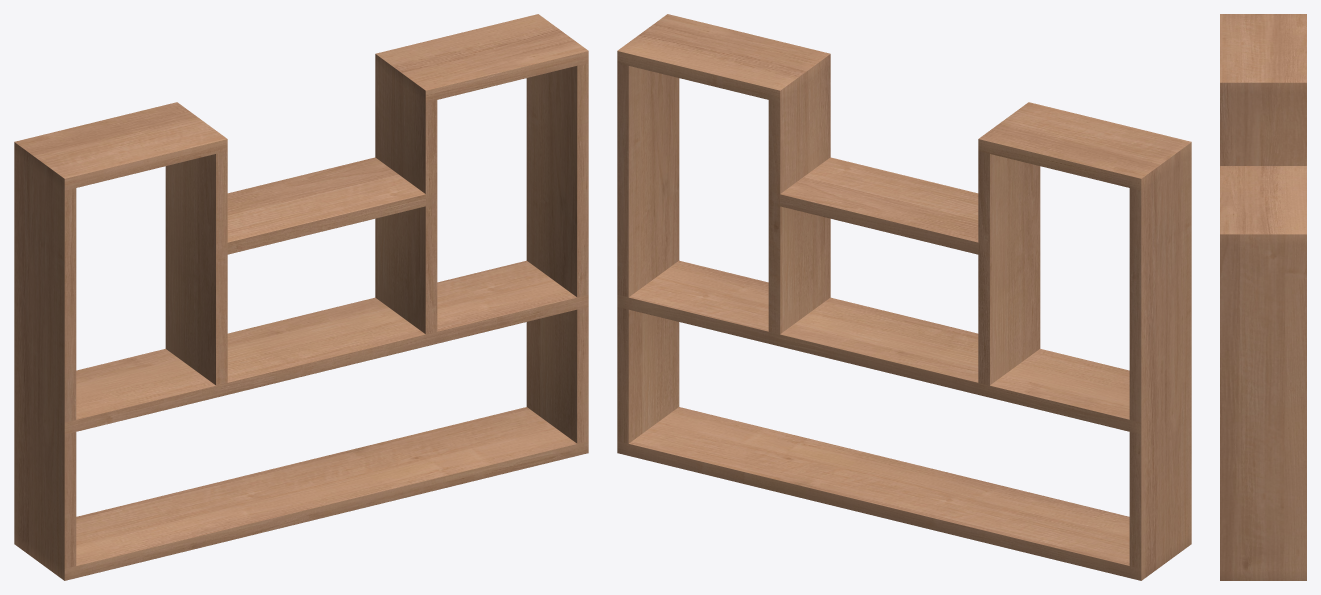
The model's file is SSS.glb.
3 renders of one model, left to right at view 1: azimuth 30°, elevation 25°; view 2: azimuth 150°, elevation 25°; view 3: azimuth 270°, elevation 25°, orthographic. The views are drawn at different scales.
Visible parts, largest first — view 1: Wooden Wardrobe; view 2: Wooden Wardrobe; view 3: Wooden Wardrobe.
Boxes of the visible parts, x1,y1,x2,y2 form: Wooden Wardrobe: [14, 14, 588, 580]; Wooden Wardrobe: [617, 14, 1191, 580]; Wooden Wardrobe: [1220, 14, 1306, 580].
Size of the model in its own units: 0.9 by 0.66 by 0.15.
1 material, 1 textured.
